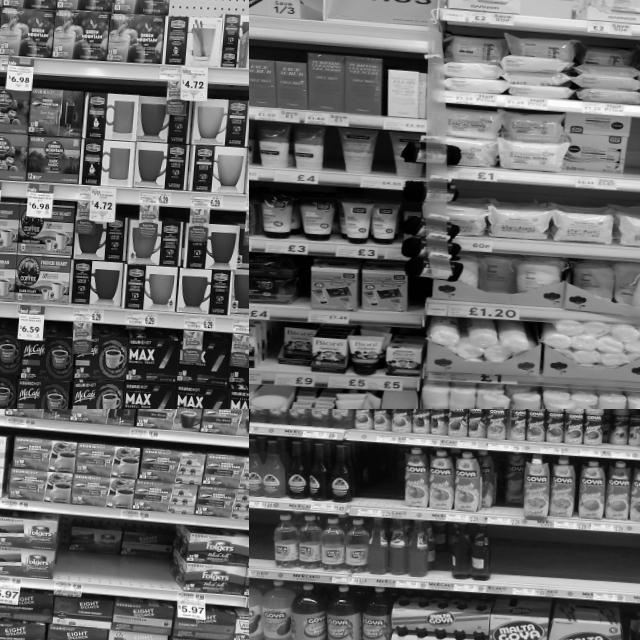100% O.O.S: (530, 528, 593, 599), (591, 532, 640, 606), (490, 525, 533, 595), (366, 443, 397, 518), (249, 509, 274, 578), (521, 0, 573, 31), (628, 120, 640, 193)
